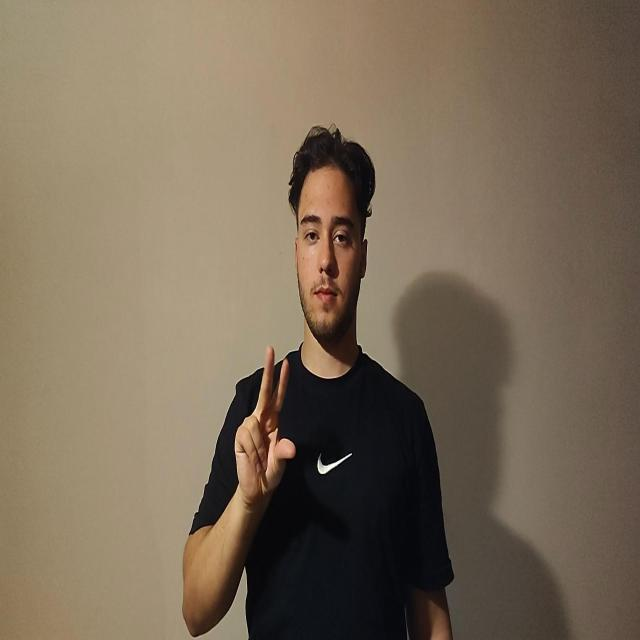no: (234, 345, 296, 511)
